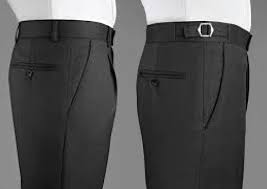F_belt: (141, 19, 256, 57), (12, 19, 117, 48)
F_dress pants: (134, 43, 252, 187), (9, 39, 116, 188)
